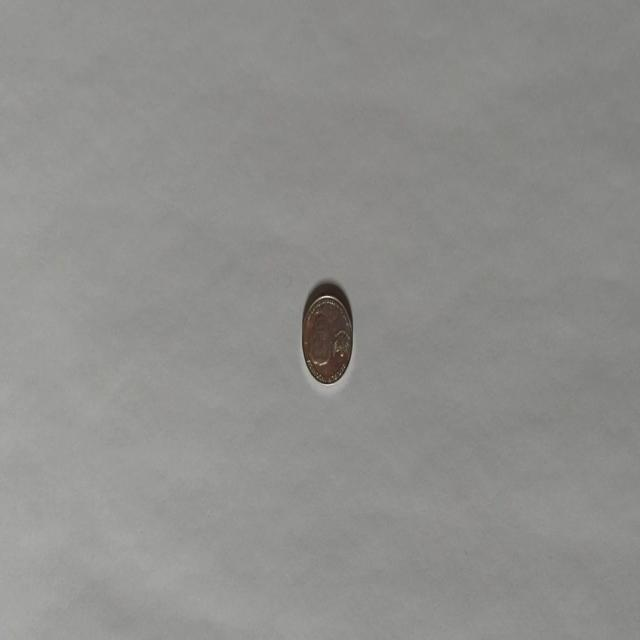seratus rupiah: (301, 291, 353, 385)
